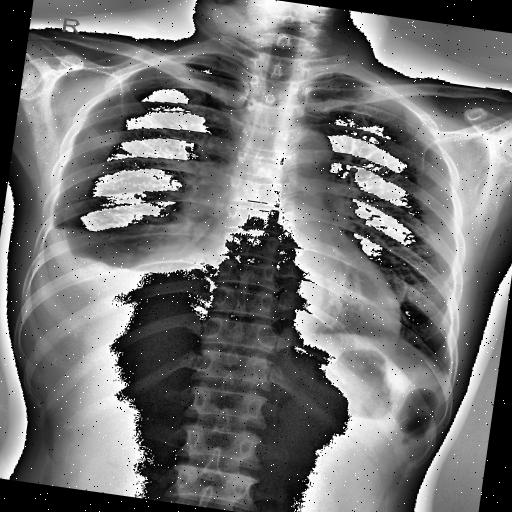10- Pleural effusion: (22, 202, 220, 351), (22, 223, 221, 317), (34, 223, 164, 323)
12- Pneumothorax: (50, 36, 246, 247)
4- Consolidation: (132, 246, 184, 274)
7- Lung Opacity: (61, 226, 198, 279), (132, 246, 184, 274)
